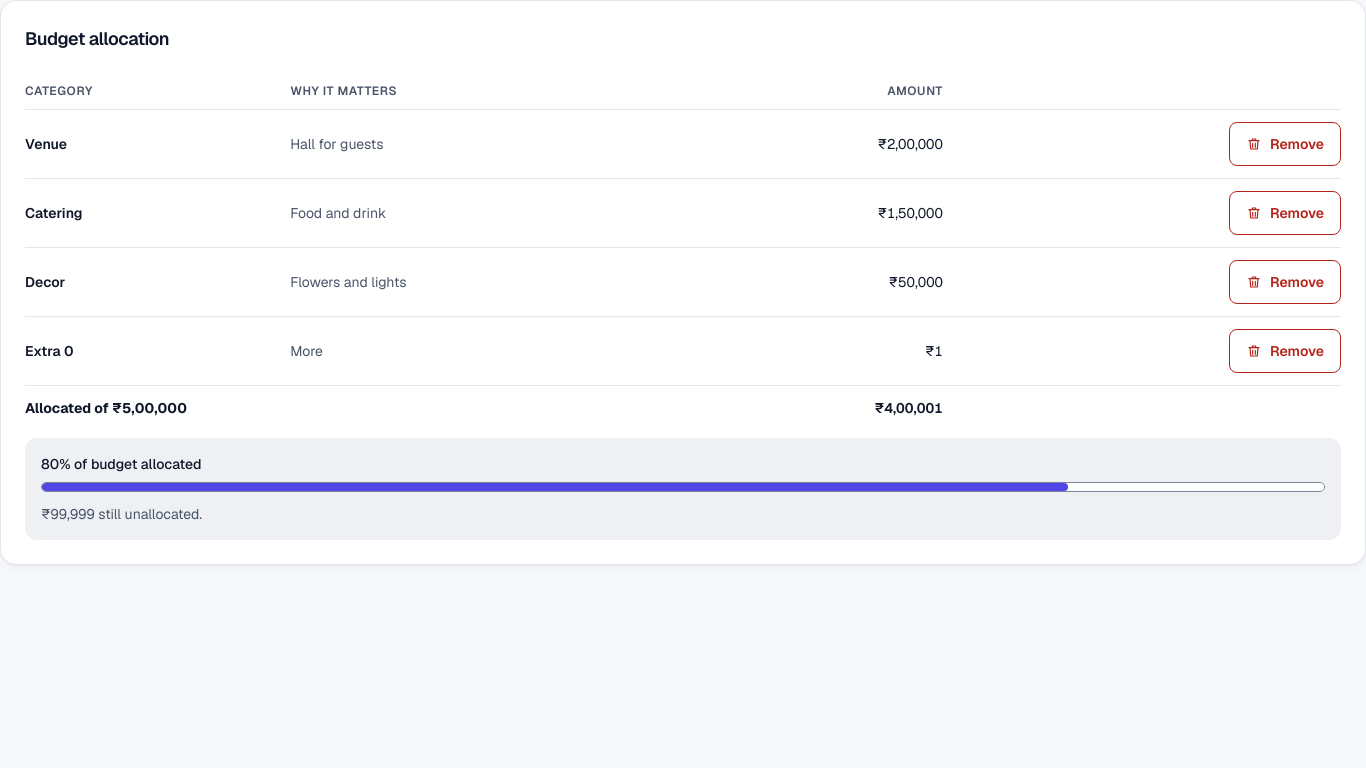
Test: BudgetTable (remove line) › does not offer Undo when lines cannot be added back
This screenshot has width=1366, height=768.
Click the button with aria-label "Remove Venue" at point(1285, 144), box [1229,122,1341,166]
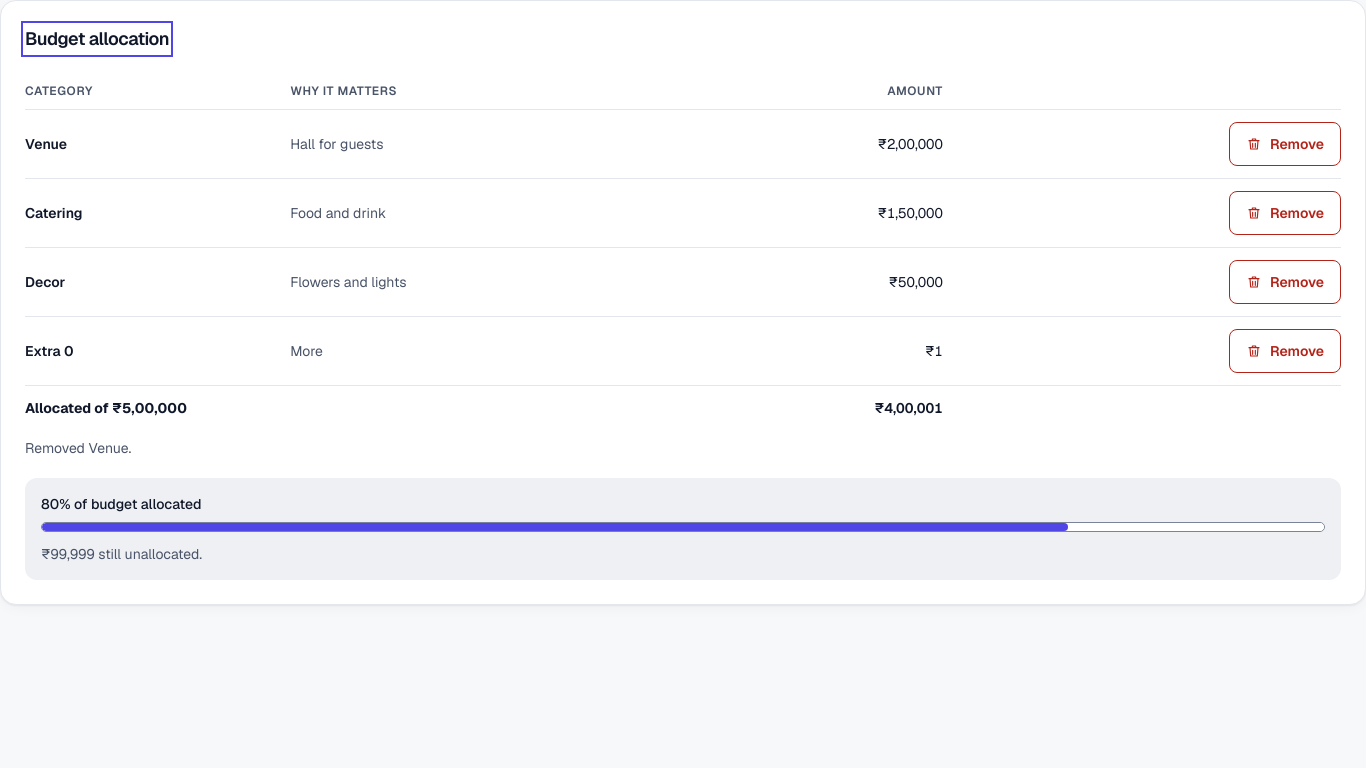
Result: the text "Removed Venue." is shown at [25,438,131,458]
